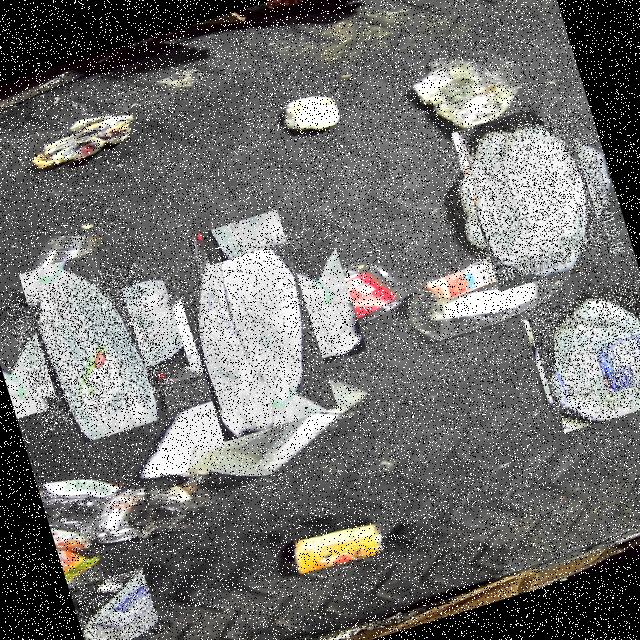milk-jug: (148, 223, 351, 427), (441, 107, 617, 283), (2, 261, 174, 433), (523, 279, 640, 431), (67, 566, 161, 640)
